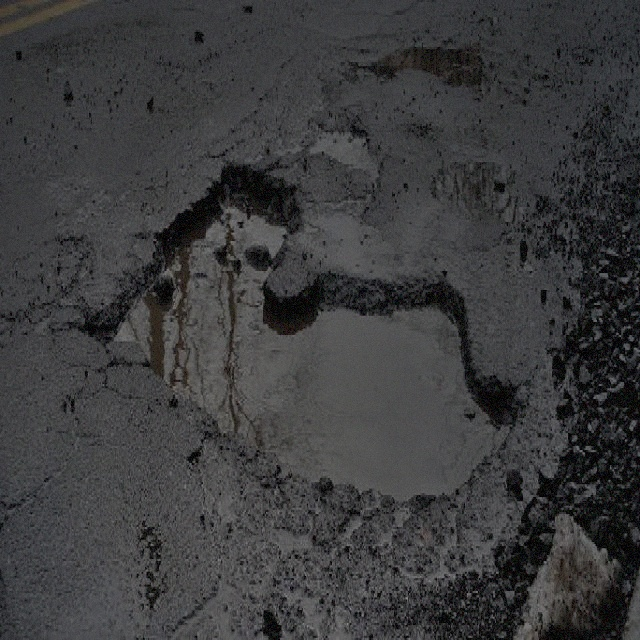pothole: (82, 154, 518, 504), (360, 36, 483, 92), (309, 117, 381, 186)
